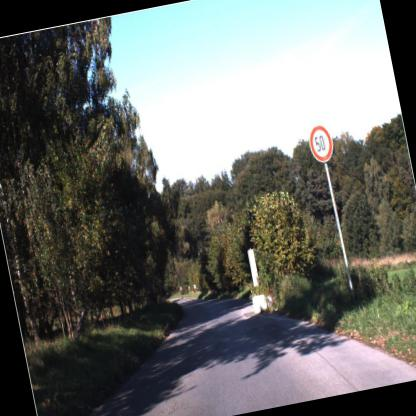prohibitory: (304, 119, 338, 167)
